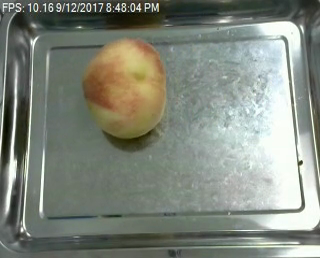Peach: (81, 37, 167, 139)
